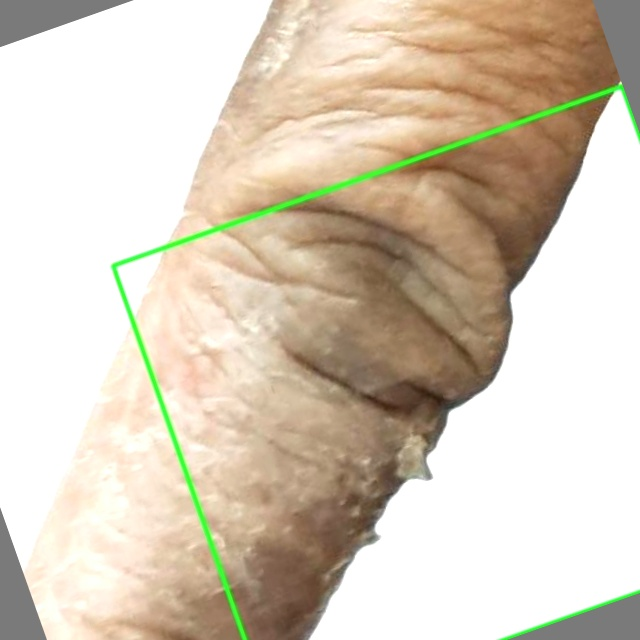Eczema: (112, 86, 639, 639)
